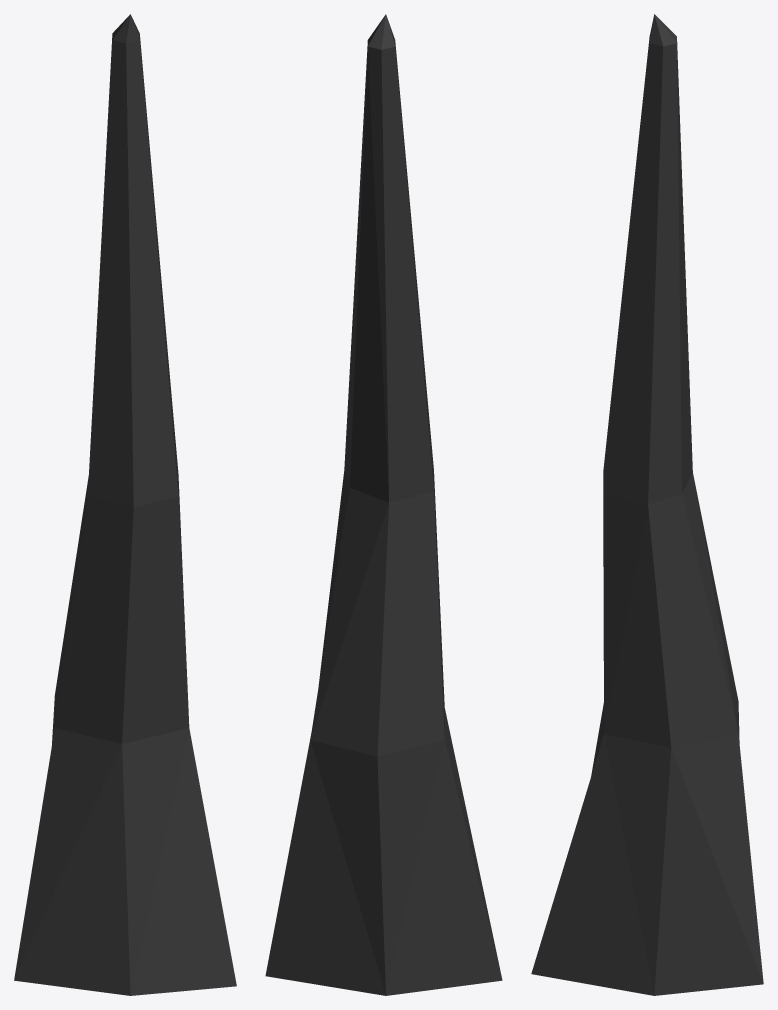
Rendered from Stal_1E.fbx.
3 renders of one model, left to right at view 1: azimuth 30°, elevation 25°; view 2: azimuth 150°, elevation 25°; view 3: azimuth 270°, elevation 25°, orthographic.
Visible parts, largest first — view 1: pCone43; view 2: pCone43; view 3: pCone43.
Boxes of the visible parts, bbox=[...] form: pCone43: bbox=[14, 14, 236, 995]; pCone43: bbox=[265, 14, 502, 995]; pCone43: bbox=[531, 14, 763, 995].
Size of the model in its own units: 0.92 by 4 by 0.8982.
